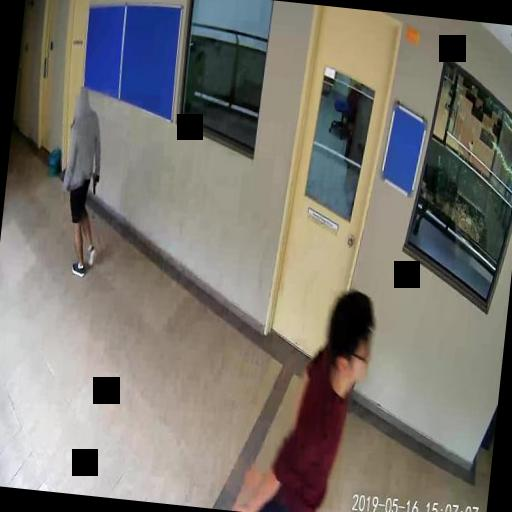Handgun: (90, 168, 99, 193)
